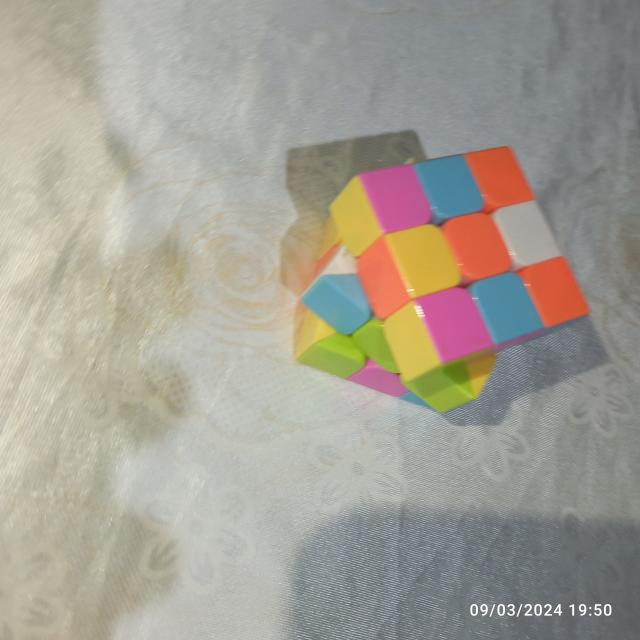Rub: (292, 142, 586, 417)
